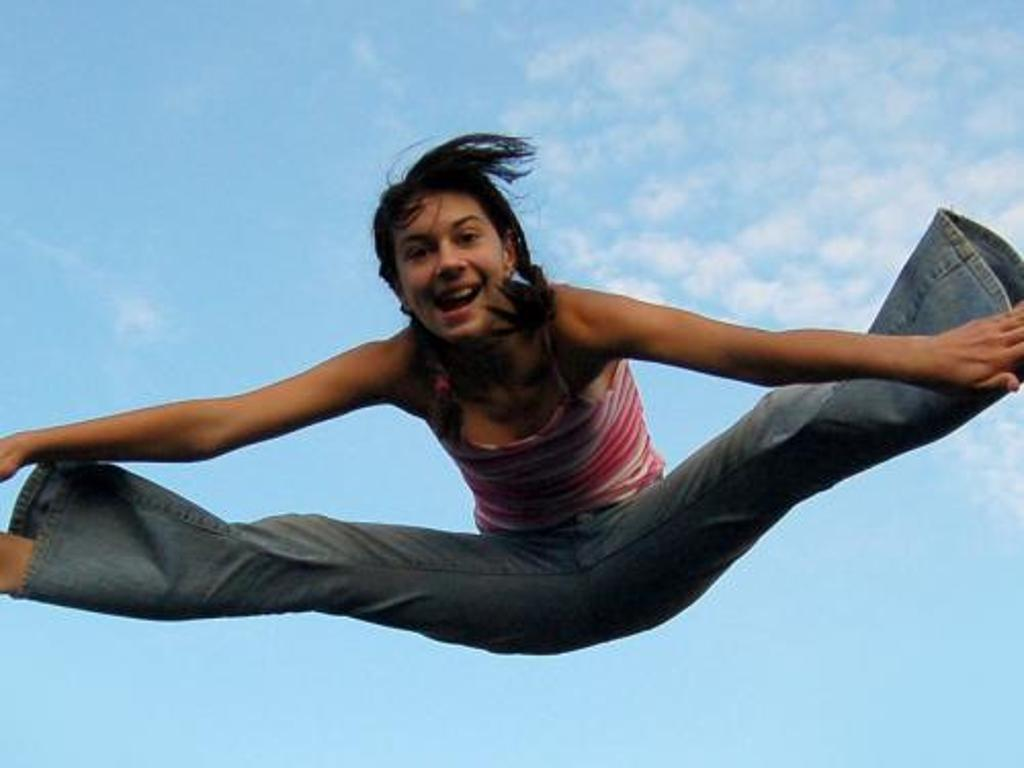face: (395, 193, 505, 335)
